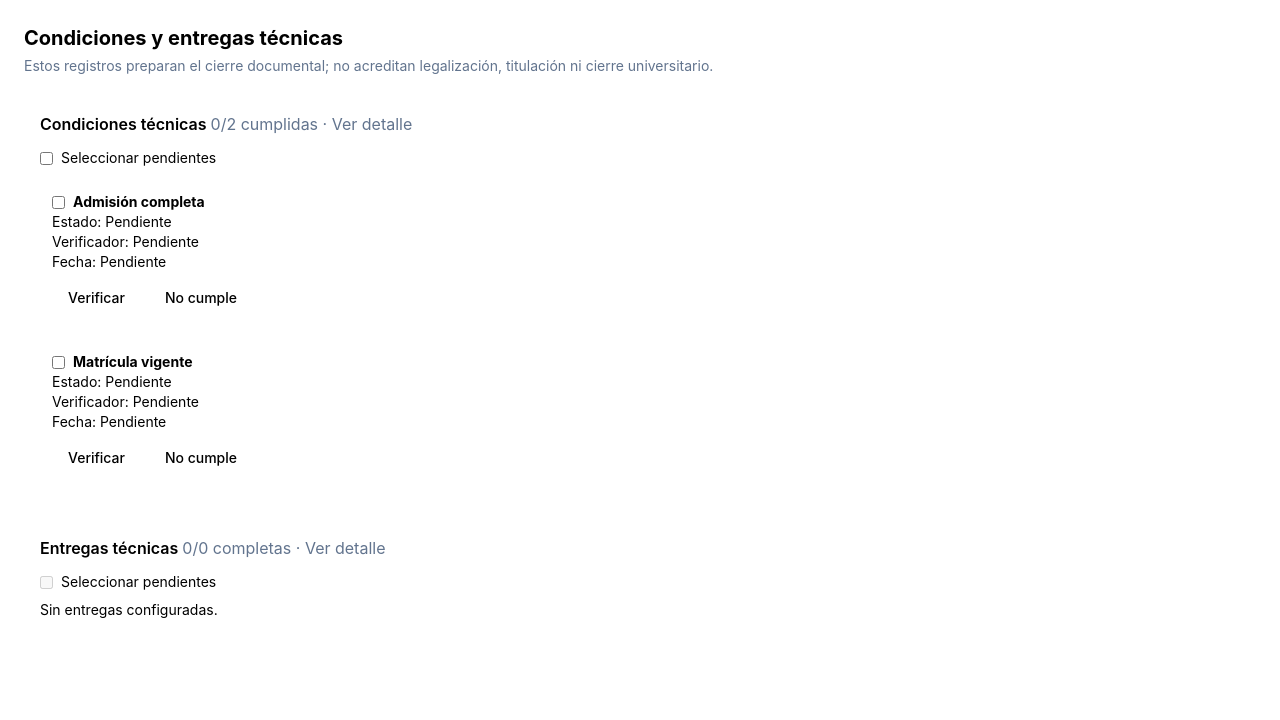
Scenario: ClosureRequirements › selecciona todas las pendientes, refleja selección parcial y permite deseleccionar todas
Expected: the text "Admisión completa" is shown, [73, 192, 205, 212]
Click the checkbox labelled "Seleccionar pendientes" below "Condiciones técnicas" at (46, 158), box [40, 152, 53, 164]
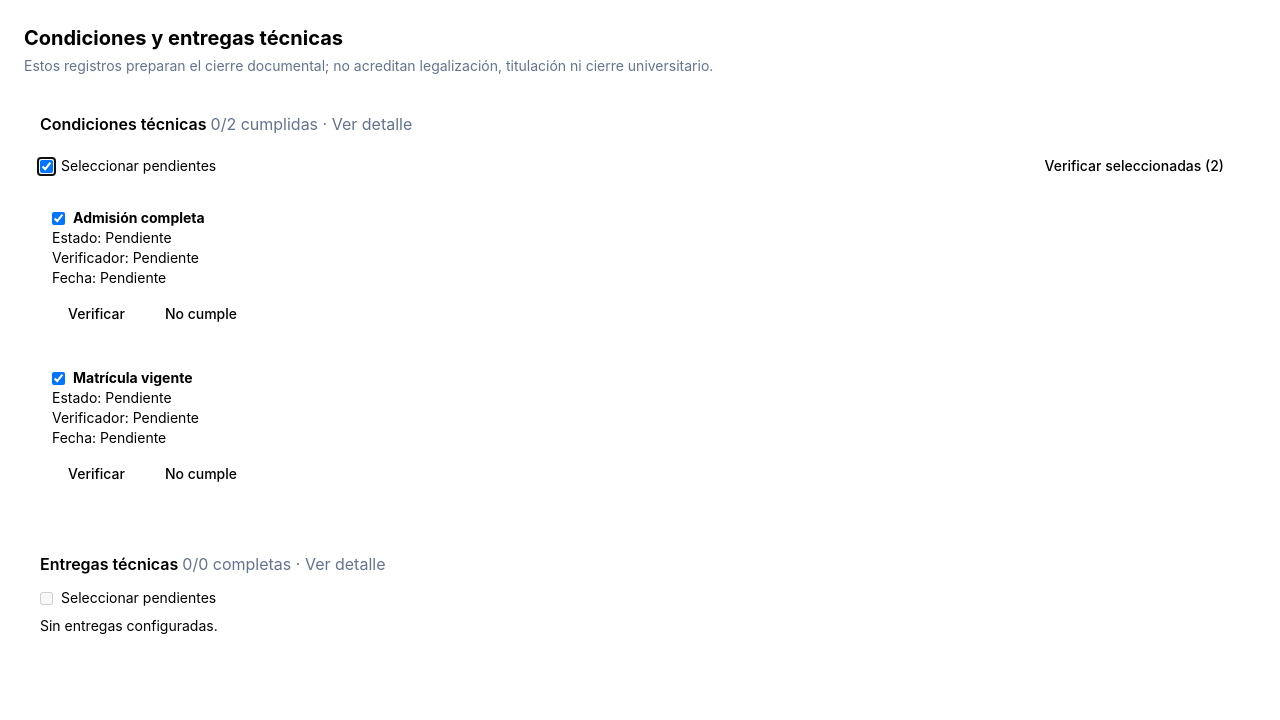
Expected: the checkbox labelled "Seleccionar pendientes" below "Condiciones técnicas" is checked, [40, 160, 53, 172]
Expected: the checkbox named "Seleccionar Admisión completa" is checked, [52, 212, 65, 224]
Expected: the checkbox named "Seleccionar Matrícula vigente" is checked
Click the checkbox named "Seleccionar Matrícula vigente" at (58, 378), box [52, 372, 65, 384]
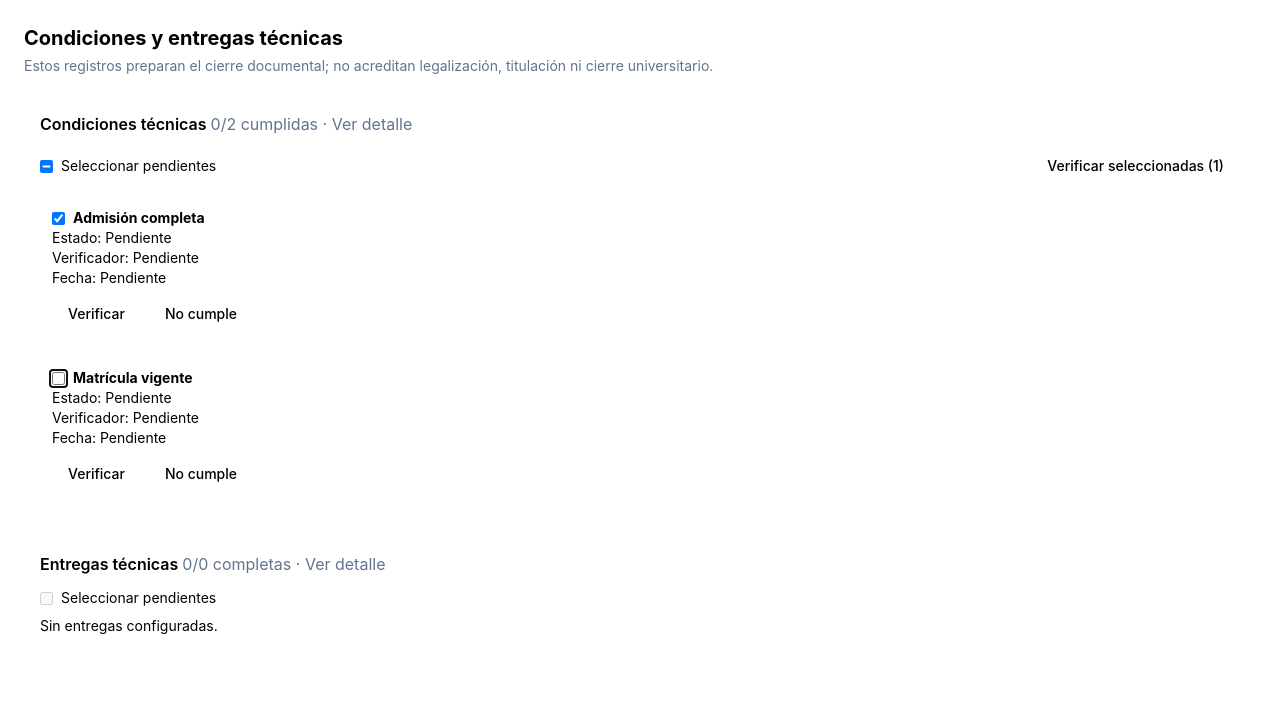
Expected: the checkbox labelled "Seleccionar pendientes" below "Condiciones técnicas" is not checked
Expected: the button "Verificar seleccionadas (1)" is enabled, [1031, 148, 1240, 184]
Click the checkbox labelled "Seleccionar pendientes" below "Condiciones técnicas" at (46, 166), box [40, 160, 53, 172]
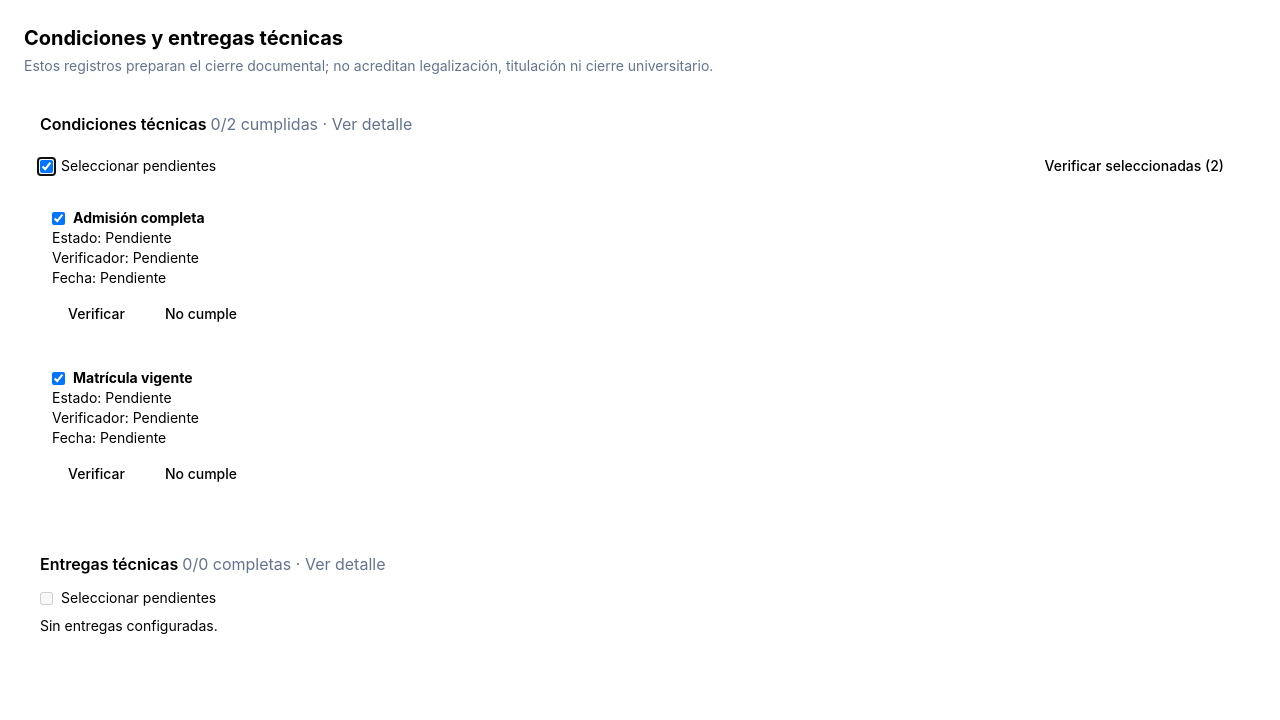
Expected: the checkbox labelled "Seleccionar pendientes" below "Condiciones técnicas" is checked
Click the checkbox labelled "Seleccionar pendientes" below "Condiciones técnicas" at (46, 166), box [40, 160, 53, 172]
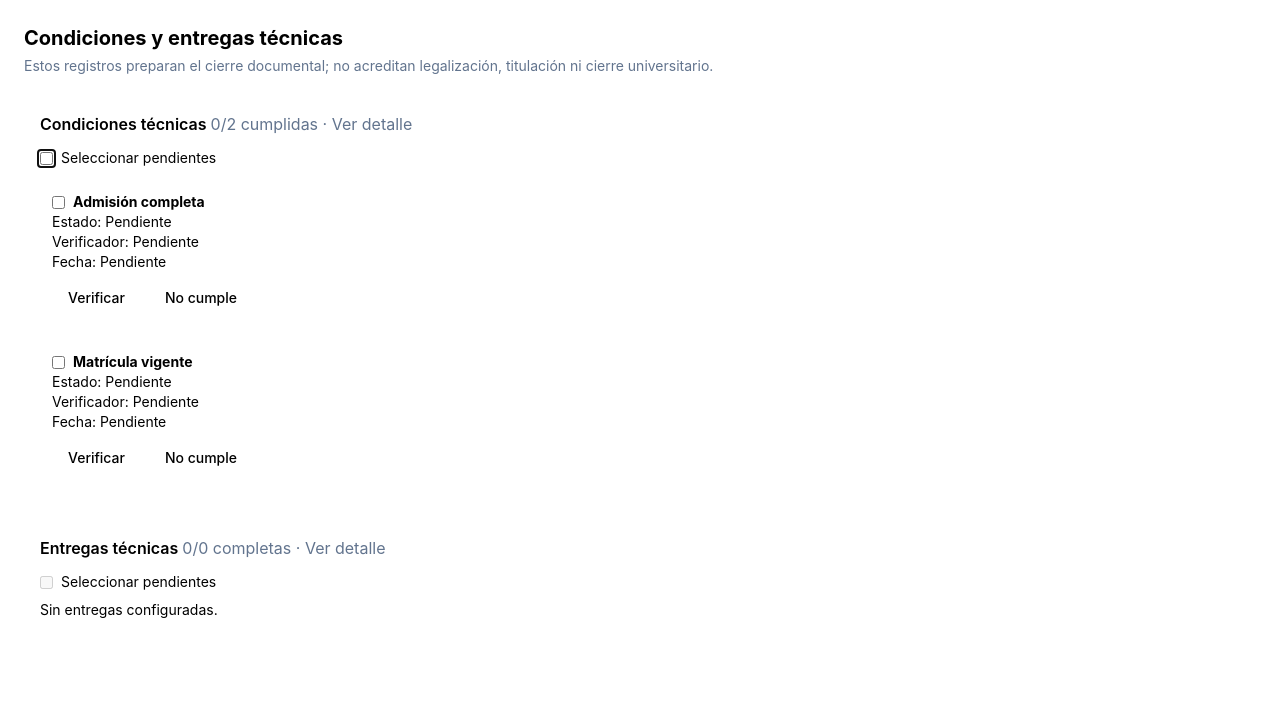
Expected: the checkbox labelled "Seleccionar pendientes" below "Condiciones técnicas" is not checked, [40, 152, 53, 164]
Expected: the button "Verificar seleccionadas" is gone
